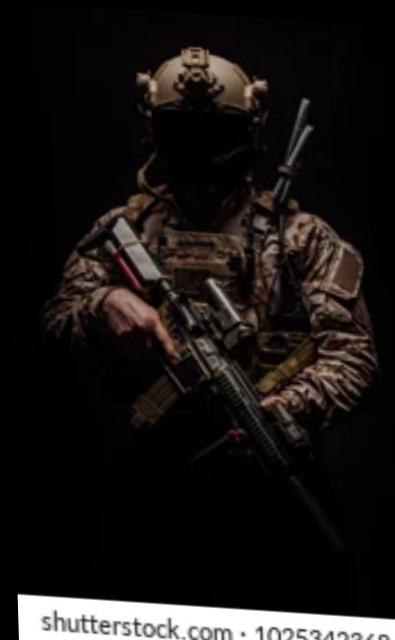other: (40, 45, 381, 447)
